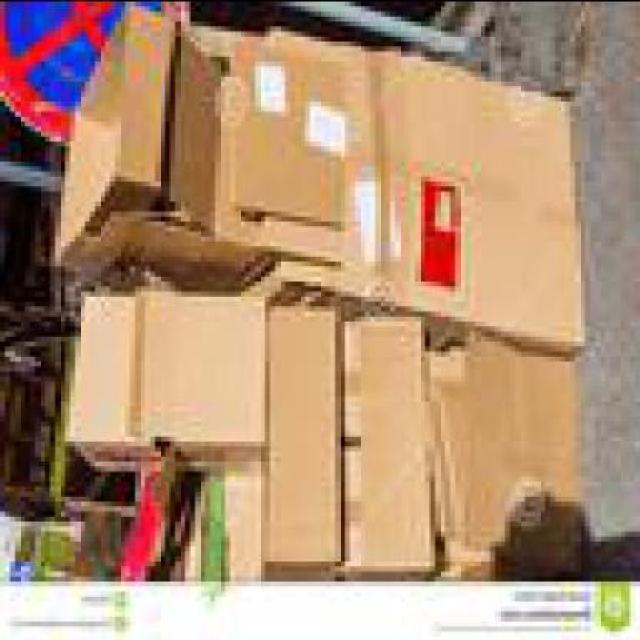CARDBOARD: (325, 36, 580, 356), (80, 14, 255, 286), (456, 325, 584, 570), (44, 2, 156, 276), (334, 305, 434, 570), (210, 65, 330, 260), (260, 290, 340, 575), (130, 286, 255, 466), (229, 20, 340, 220), (60, 280, 165, 465), (425, 340, 490, 565), (114, 460, 174, 575), (171, 464, 220, 576), (215, 460, 260, 571), (250, 256, 325, 296)
